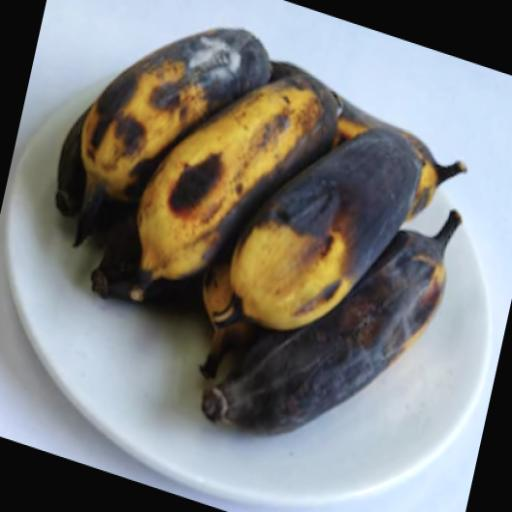banana-overripe: (35, 21, 468, 465)
